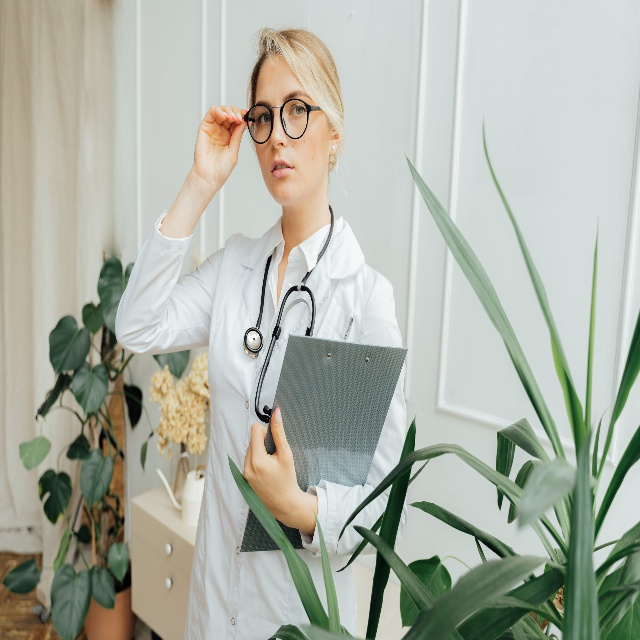Gafas: (243, 102, 324, 144)
Sin_guantes: (241, 407, 298, 531), (192, 103, 254, 192)
